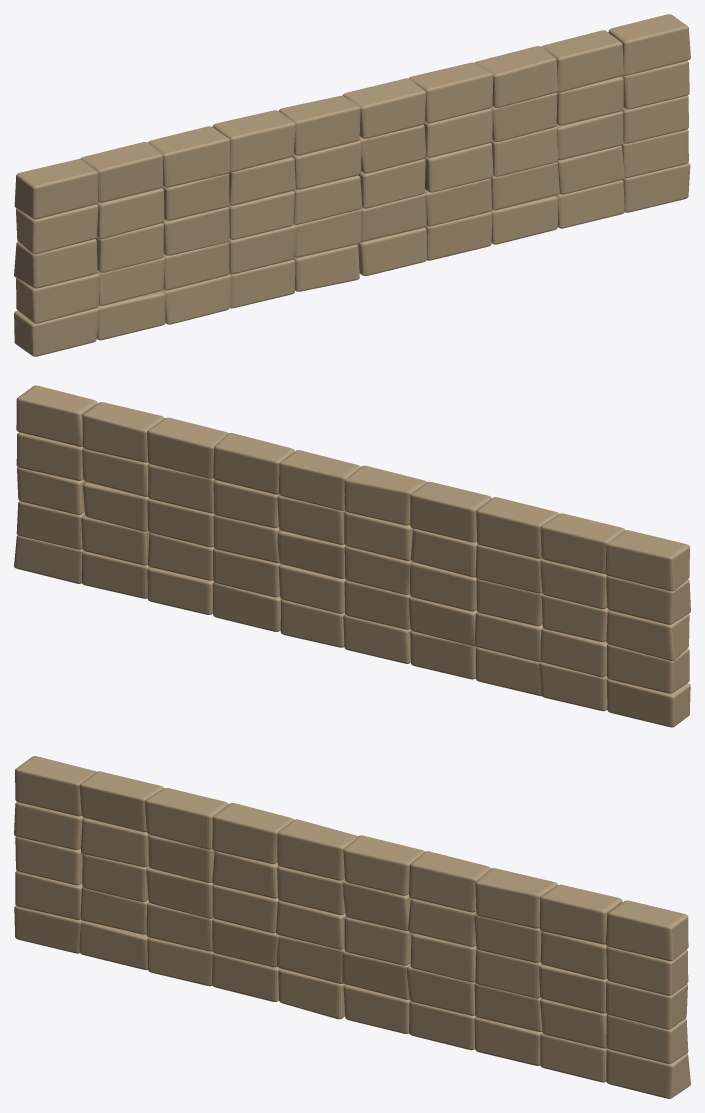
The model's file is fence.fbx.
3 views of the same model, one above another, from view 1: azimuth 30°, elevation 25°; view 2: azimuth 150°, elevation 25°; view 3: azimuth 330°, elevation 25° (orthographic).
Parts seen in each view (by area): view 1: Cube; view 2: Cube; view 3: Cube.
Part boxes in pixels (x1,y1,x2,y2): Cube: [14, 14, 690, 356]; Cube: [14, 385, 690, 727]; Cube: [14, 756, 690, 1098].
Bounding box in the file's own units: 2012 × 506 × 107.
